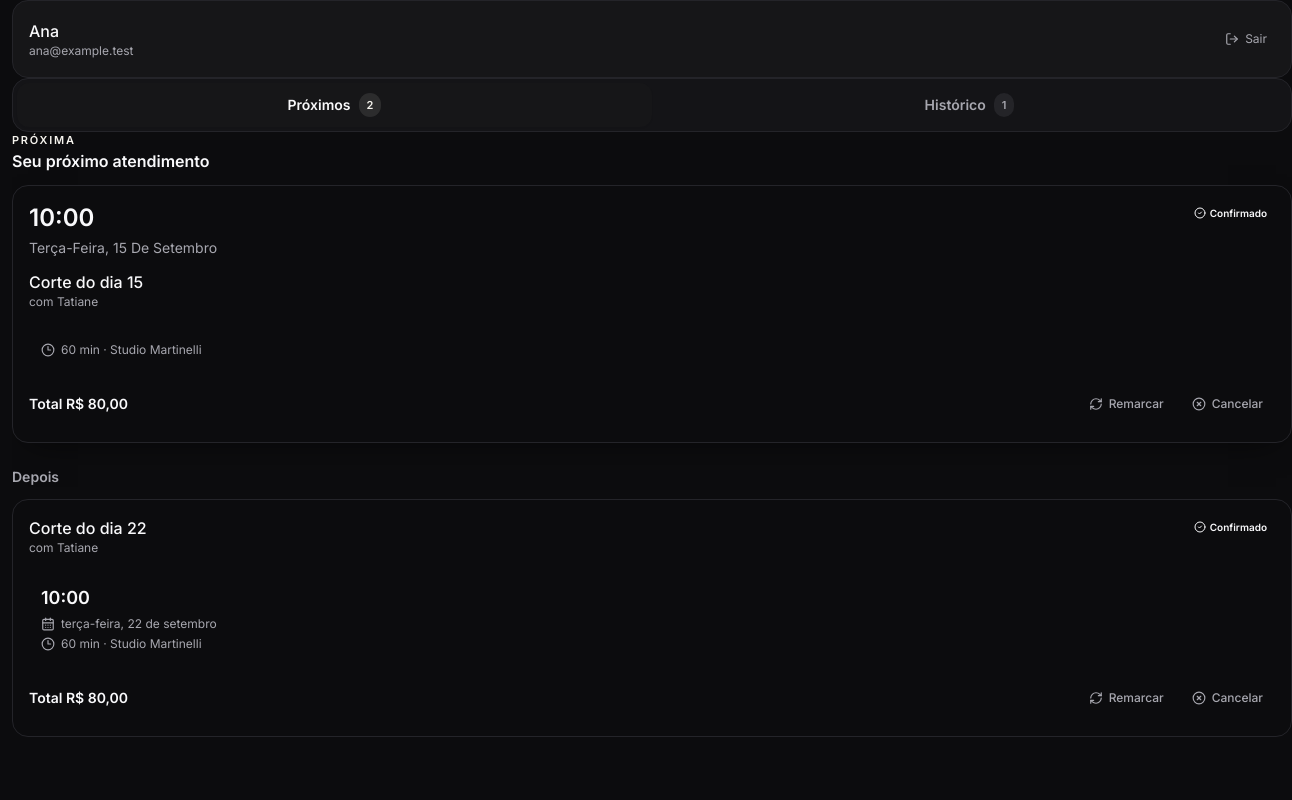
Test case: MinhasList › separa próximos atendimentos do histórico
Expected: the text "Corte do dia 15" is shown, [29,272,143,292]
Expected: the text "Corte do dia 22" is shown, [29,518,147,538]
Click the tab "Histórico 1": (970, 105) [652,83,1287,127]
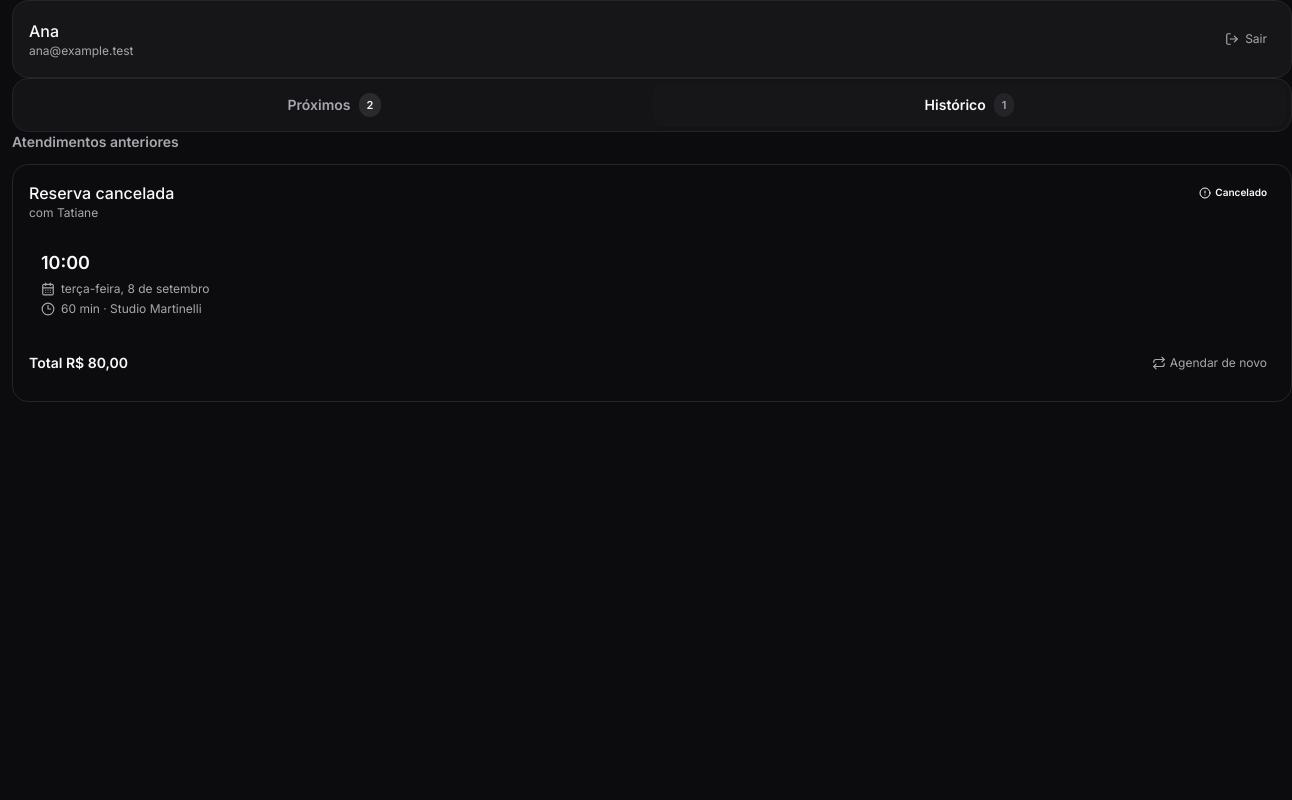
Expected: the text "Reserva cancelada" is shown, [29,183,174,203]
Expected: the text "Corte do dia 15" is gone
